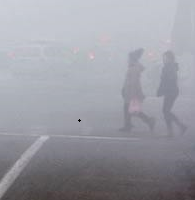person: (116, 48, 157, 132), (156, 51, 188, 136)
